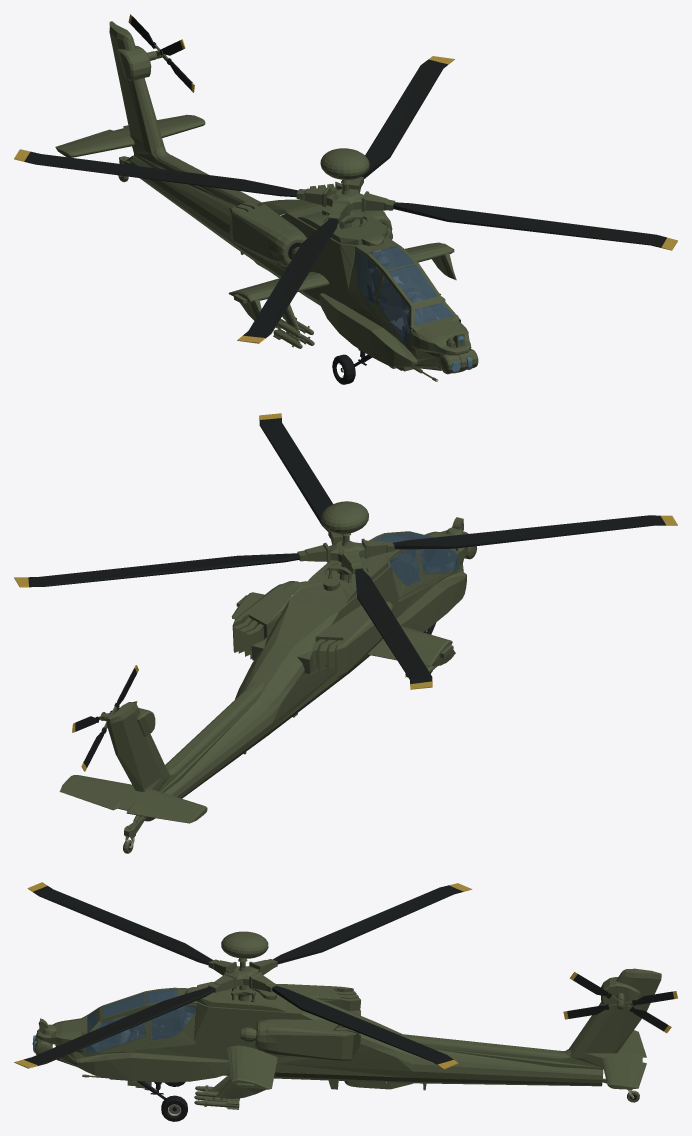
File: apache.glb
The picture shows the model from 3 angles, top to bottom: view 1: azimuth 30°, elevation 25°; view 2: azimuth 150°, elevation 25°; view 3: azimuth 270°, elevation 25°; orthographic projection. The views are drawn at different scales.
Parts seen in each view (by area): view 1: Apache_Airframe, Apache_MainRotor, Apache_Canopy, Apache_TailRotor; view 2: Apache_Airframe, Apache_MainRotor, Apache_Canopy, Apache_TailRotor; view 3: Apache_Airframe, Apache_MainRotor, Apache_Canopy, Apache_TailRotor.
Part boxes in pixels (<box>): Apache_Airframe: <box>55,21,478,384</box>; Apache_MainRotor: <box>14,56,677,343</box>; Apache_Canopy: <box>355,246,453,348</box>; Apache_TailRotor: <box>128,14,194,92</box>; Apache_Airframe: <box>59,501,477,853</box>; Apache_MainRotor: <box>14,413,677,689</box>; Apache_Canopy: <box>374,532,458,585</box>; Apache_TailRotor: <box>72,665,138,771</box>; Apache_Airframe: <box>32,931,661,1121</box>; Apache_MainRotor: <box>14,882,472,1069</box>; Apache_Canopy: <box>85,989,196,1053</box>; Apache_TailRotor: <box>563,972,677,1033</box>.
Size of the model in its own units: 8.18 by 3.34 by 11.98.
